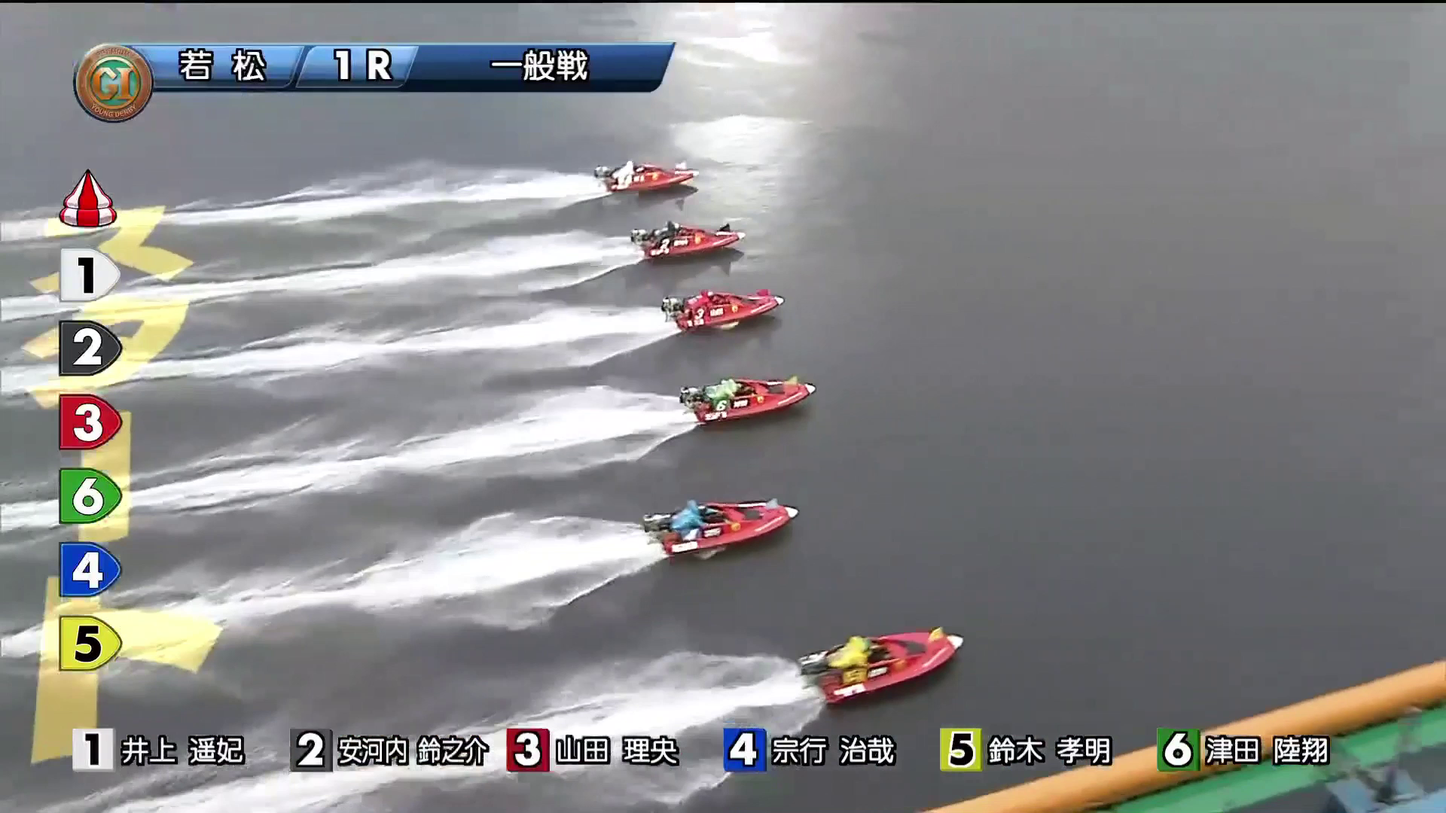１号艇: (611, 154, 687, 194)
２号艇: (638, 216, 741, 254)
３号艇: (669, 282, 794, 323)
４号艇: (695, 366, 799, 409)
５号艇: (652, 493, 772, 548)
６号艇: (779, 624, 937, 680)
